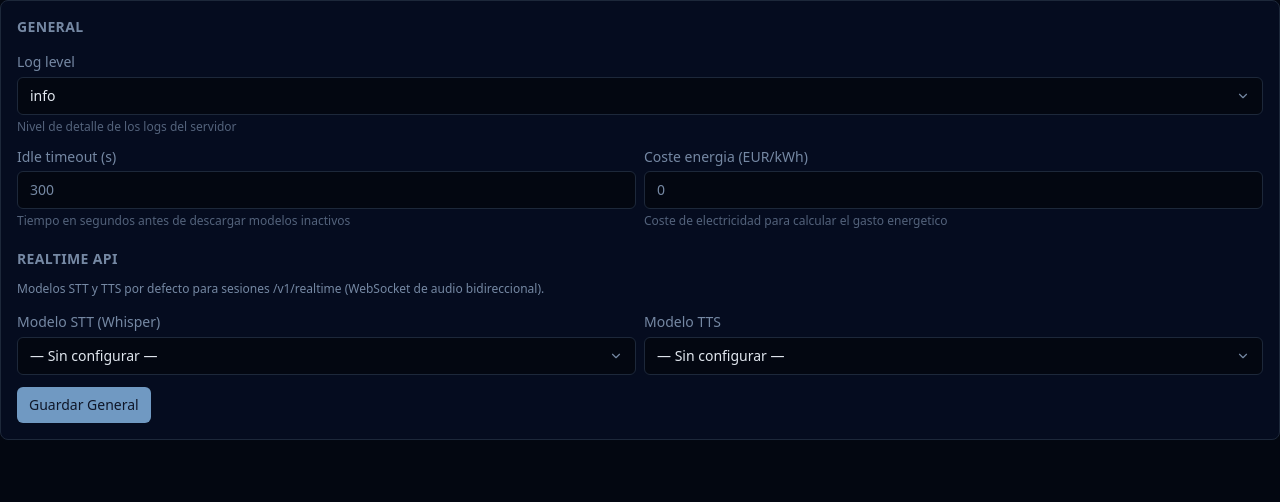
Test: GeneralSettings realtime STT/TTS model lists › lists models by their real capabilities, not a hardcoded backend allowlist (2026-10-29: the old TTS_BACKENDS/STT_BACKENDS sets missed 'piper' and 'vibeasr', lea
The width and height of the screenshot is (1280, 502).
Note: Open the STT dropdown and confirm whisper + vibeasr both show up.
Click the dropdown labelled "— Sin configurar —" below "Modelo STT (Whisper)": (94, 356) [17,337,636,375]
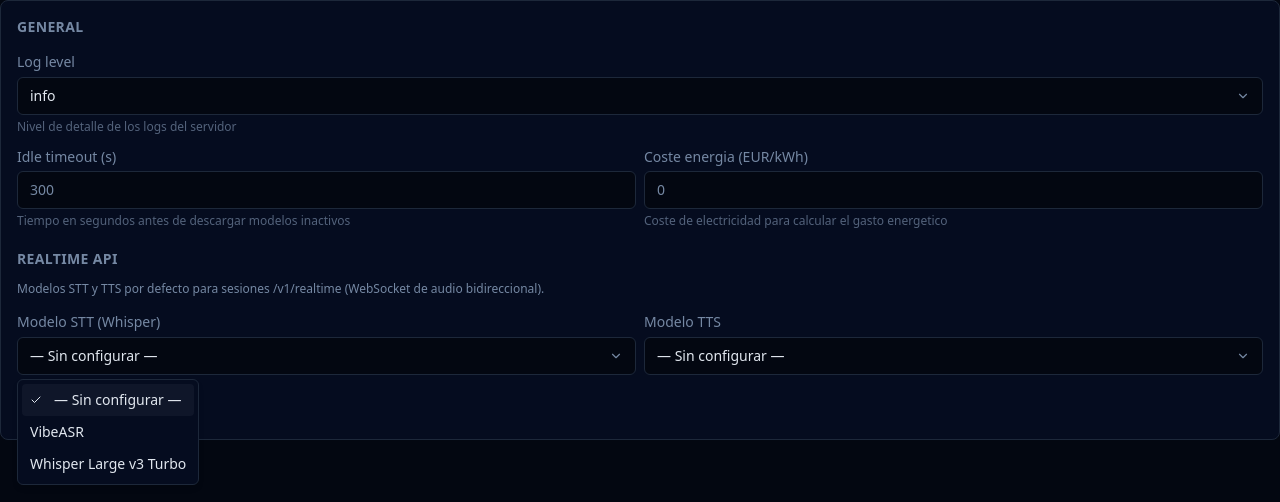
expect the text "Whisper Large v3 Turbo" is shown: met, box [30,454,186,474]
expect the text "VibeASR" is shown: met, box [30,422,84,442]
